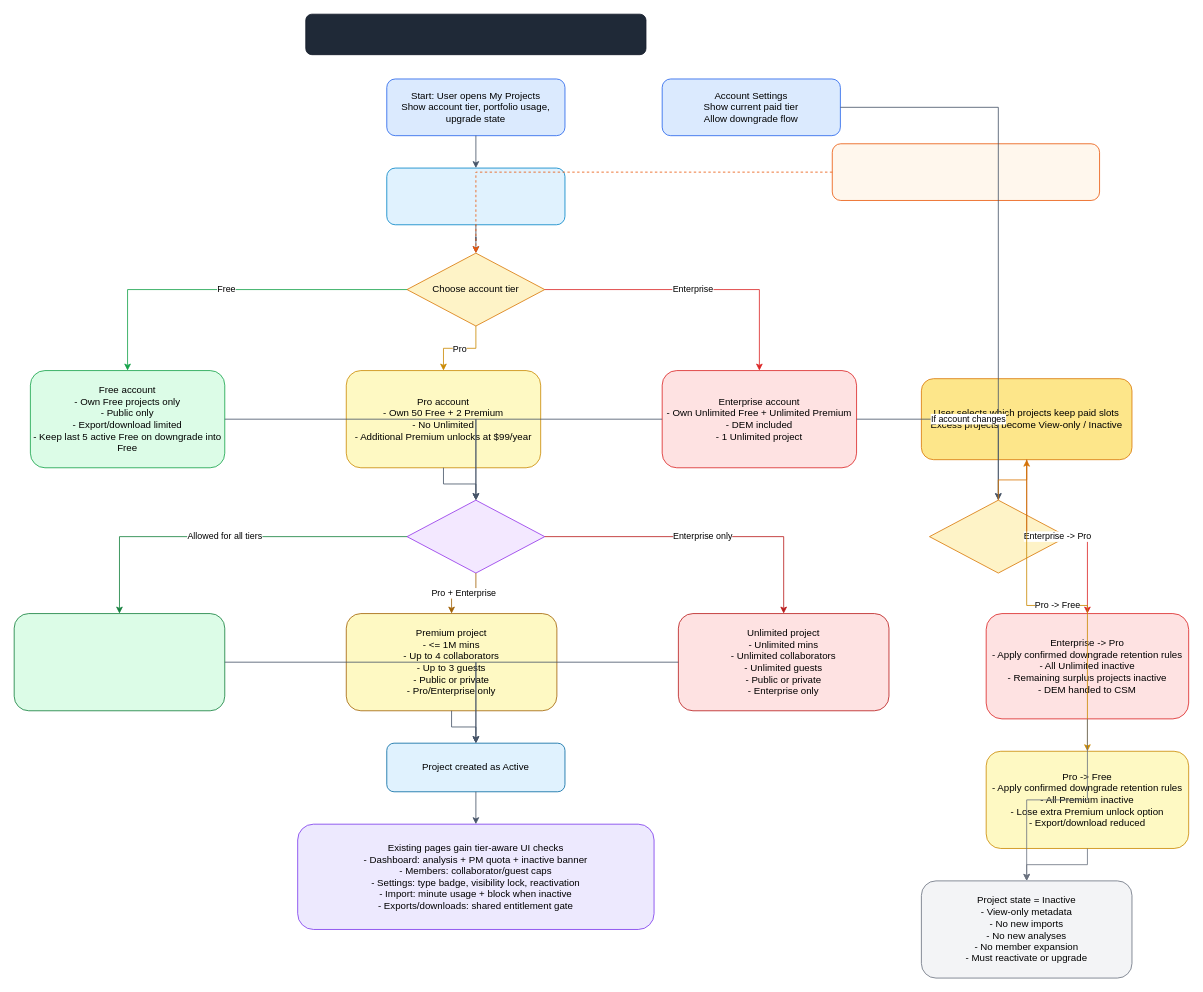
Some shapes in this 1203 by 992 pixel diagram are drawn without their labels. Each missing label, with the box of its shape:
Arbimon Tiering Workflow Account tier + project type + downgrade state: (305, 13, 646, 55)
Create Project page Existing page gets tier-aware type selector: (386, 167, 565, 225)
Downgrade event?: (929, 499, 1067, 573)
Free project - < 40k mins - Public only - Free/Premium/Enterprise allowed: (13, 613, 225, 711)
Project type rules: (406, 499, 545, 573)
Source of truth: use FINAL Published Features numbers for entitlements: (831, 143, 1100, 200)
